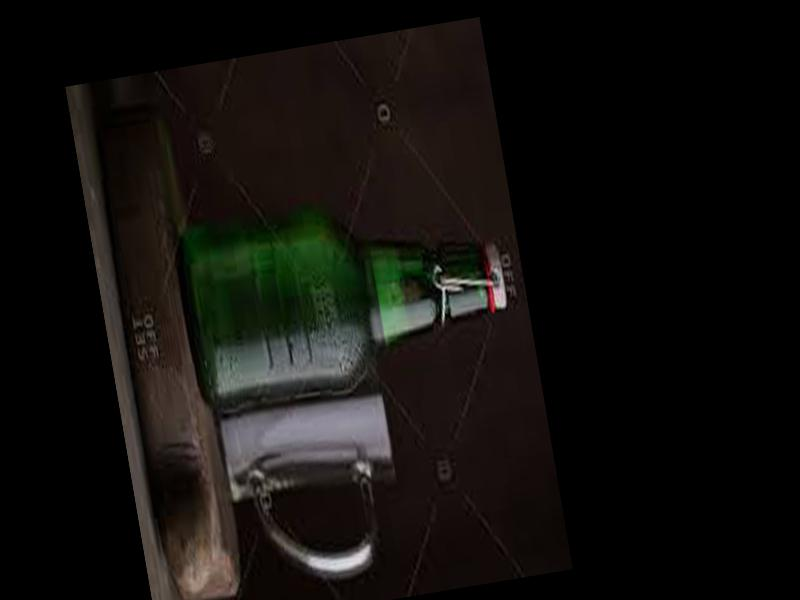Beer: (172, 183, 516, 411)
